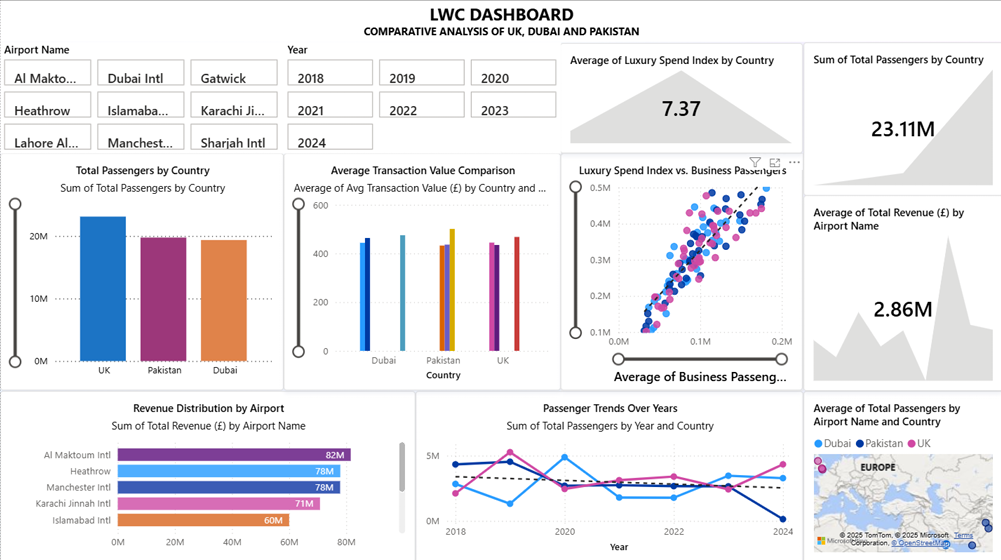

The dashboard page shown, as its layout file describes it:
{"tool":"powerbi","page":{"name":"Dashboard","canvas":[1920,1080],"ordinal":0},"visuals":[{"type":"shape","box":[692.5,810,532.5,252.5],"z":0},{"type":"shape","box":[866,84,1016,394],"z":1000},{"type":"shape","box":[25,510,647.5,552.5],"z":2000},{"type":"shape","box":[0,0,1920,72],"z":3000},{"type":"image","box":[16.3,0,71.1,72.6],"z":4000},{"type":"textbox","box":[84,12,194,60],"z":5000},{"type":"textbox","box":[297.5,5,1377.5,62.5],"z":6000},{"type":"actionButton","box":[1700,12.5,200,50],"z":7000},{"type":"shape","box":[6.1,82.9,843,133.4],"z":8000},{"type":"slicer","fields":{"Values":["All Data.Airport Name"]},"box":[16,94,380,112],"z":9000},{"type":"slicer","fields":{"Values":["All Data.Year"]},"box":[422,94,404,112],"z":10000},{"type":"shape","box":[0,240,843.3,248.9],"z":11000},{"type":"kpi","title":"Avg Luxury Index","fields":{"Indicator":["All Data.Avg_Luxury_Index"],"TrendLine":["All Data.Country"],"Goal":["Median(All Data.Luxury Spend Index)"]},"box":[22.5,262.5,247.5,205],"z":12000},{"type":"kpi","title":"Passengers Sum by Country","fields":{"Indicator":["All Data.Total_Passengers_Sum"],"TrendLine":["All Data.Country"]},"box":[285,262.5,237.5,202.5],"z":13000},{"type":"kpi","title":"Total Revenue Sum","fields":{"Indicator":["All Data.Total_Revenue_Sum"],"TrendLine":["All Data.Airport Name"]},"box":[537.5,262.5,270,205],"z":14000},{"type":"clusteredColumnChart","title":"Total Passengers by Country","fields":{"Category":["All Data.Country"],"Y":["Sum(All Data.Total Passengers)"]},"box":[896,120,492,328],"z":15000},{"type":"barChart","title":"Revenue Distribution by Airport","fields":{"Category":["All Data.Airport Name"],"Y":["Sum(All Data.Total Revenue (£))"]},"box":[1402,122,450,328],"z":16000},{"type":"scatterChart","title":"Luxury Spend Index vs. Business Passengers","fields":{"Series":["All Data.Country"],"Category":["All Data.Luxury Spend Index"],"X":["Avg(All Data.Business Passengers)"],"Y":["Avg(All Data.Total Passengers)"]},"box":[65,810,560,215],"z":17000},{"type":"lineChart","title":"Passenger Trends Over Years","fields":{"Category":["All Data.Year"],"Y":["Sum(All Data.Total Passengers)"],"Series":["All Data.Country"]},"box":[60.6,568,568,220.3],"z":18000},{"type":"shape","box":[1247.5,510,652.5,550],"z":19000},{"type":"map","title":"Total Passengers by Airport","fields":{"Series":["All Data.Airport Name"],"Category":["All Data.Country"],"Size":["Avg(All Data.Total Passengers)"]},"box":[1302.5,552.5,550,460],"z":20000},{"type":"shape","box":[692.5,502.5,532.5,300],"z":21000},{"type":"gauge","title":"Avg Leisure Passengers","fields":{"Y":["Avg(All Data.Leisure Passengers)"],"MinValue":["Min(All Data.Leisure Passengers)1"],"MaxValue":["Max(All Data.Leisure Passengers)2"]},"box":[742.5,530,435,242.5],"z":22000},{"type":"pieChart","title":"Luxury Spend Index by Airport","fields":{"Category":["All Data.Airport Name"],"Y":["Avg(All Data.Luxury Spend Index)"]},"box":[742.5,822.5,435,227.5],"z":23000}]}

Visuals, with their boxes in screenshot pixels (x1, y1, x2, y2), scaled from the page's 1920x1080 canvas onto the 1001x560 screenshot:
shape: [361,420,639,551]
shape: [451,44,981,248]
shape: [13,264,351,551]
shape: [0,0,1000,37]
image: [8,0,46,38]
textbox: [44,6,145,37]
textbox: [155,3,873,35]
actionButton: [886,6,991,32]
shape: [3,43,443,112]
slicer - All Data.Airport Name: [8,49,206,107]
slicer - All Data.Year: [220,49,431,107]
shape: [0,124,440,254]
"Avg Luxury Index" kpi: [12,136,141,242]
"Passengers Sum by Country" kpi: [149,136,272,241]
"Total Revenue Sum" kpi: [280,136,421,242]
"Total Passengers by Country" clusteredColumnChart: [467,62,724,232]
"Revenue Distribution by Airport" barChart: [731,63,966,233]
"Luxury Spend Index vs. Business Passengers" scatterChart: [34,420,326,531]
"Passenger Trends Over Years" lineChart: [32,295,328,409]
shape: [650,264,991,550]
"Total Passengers by Airport" map: [679,286,966,525]
shape: [361,261,639,416]
"Avg Leisure Passengers" gauge: [387,275,614,401]
"Luxury Spend Index by Airport" pieChart: [387,426,614,544]
